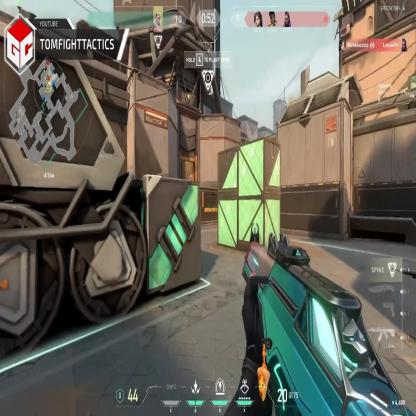enemy: (189, 172, 192, 185)
enemy_head: (189, 172, 191, 176)
